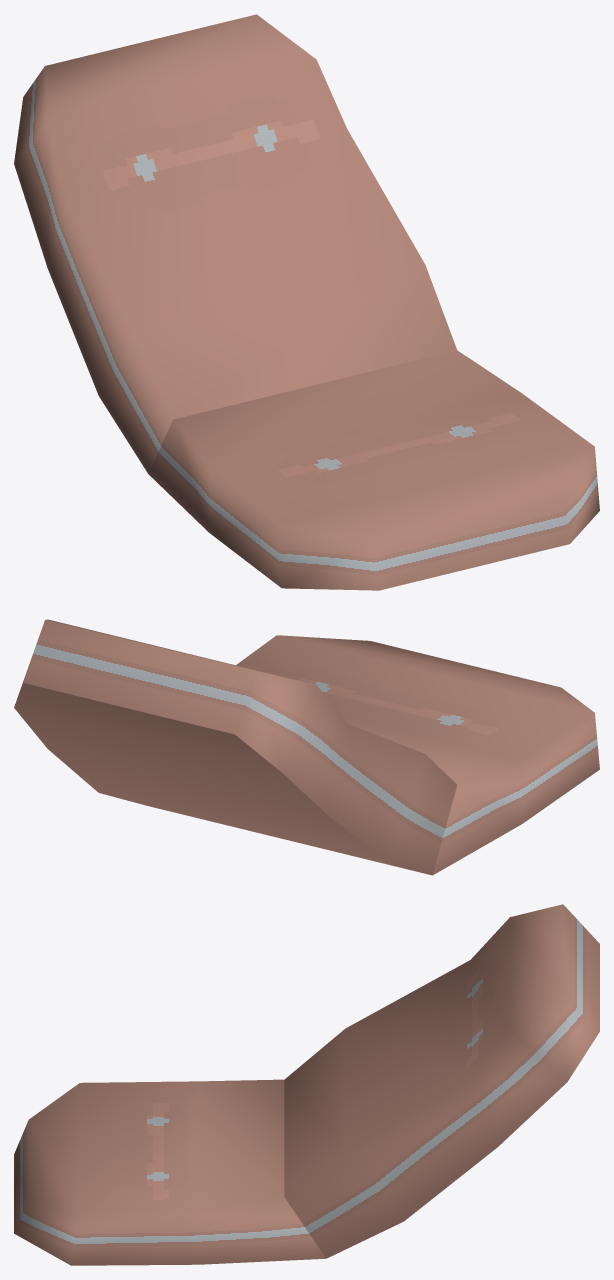
File: 012e_Sofa.glb
3 renders of one model, top to bottom at view 1: azimuth 30°, elevation 25°; view 2: azimuth 150°, elevation 25°; view 3: azimuth 270°, elevation 25°, orthographic. The views are drawn at different scales.
Visible parts, largest first — view 1: part_0; view 2: part_0; view 3: part_0.
Part boxes in pixels (x1,y1,x2,y2): part_0: (14,14,599,590); part_0: (14,619,599,875); part_0: (14,904,599,1265).
Bounding box in the file's own units: 0.5442 × 0.4857 × 1.02.
1 material, 1 textured.
